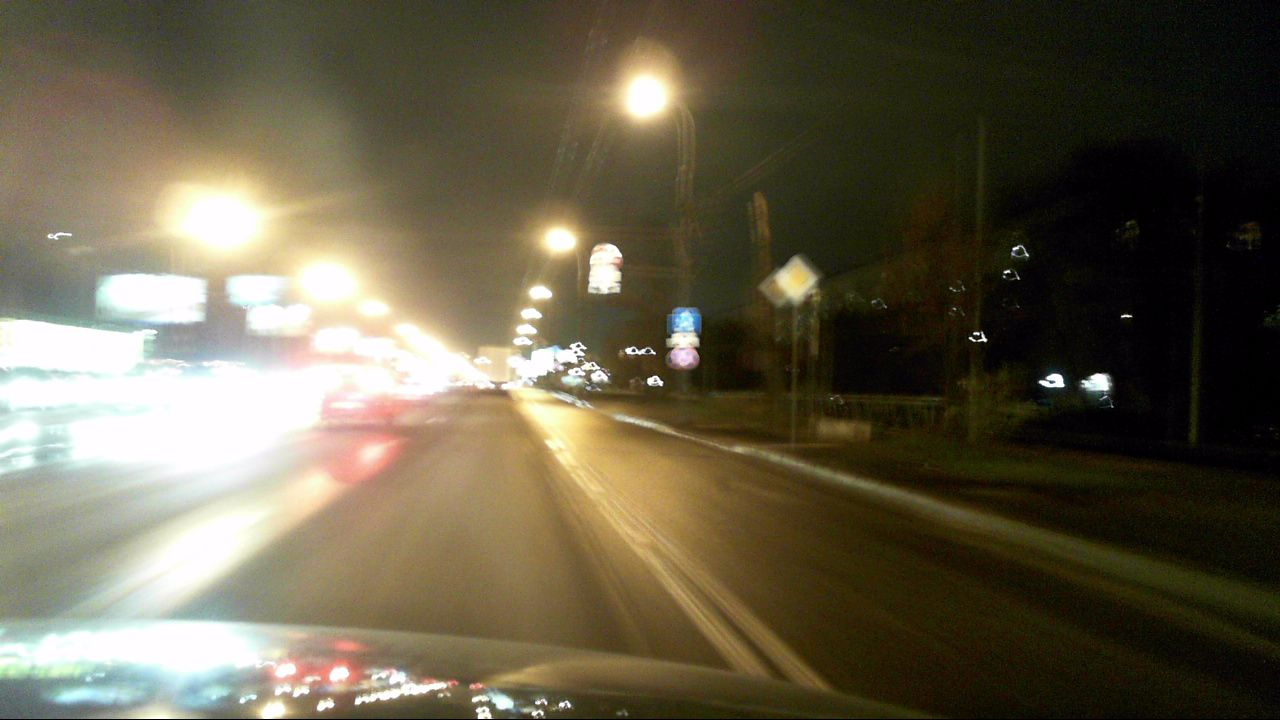No Parking: (677, 348, 697, 369)
